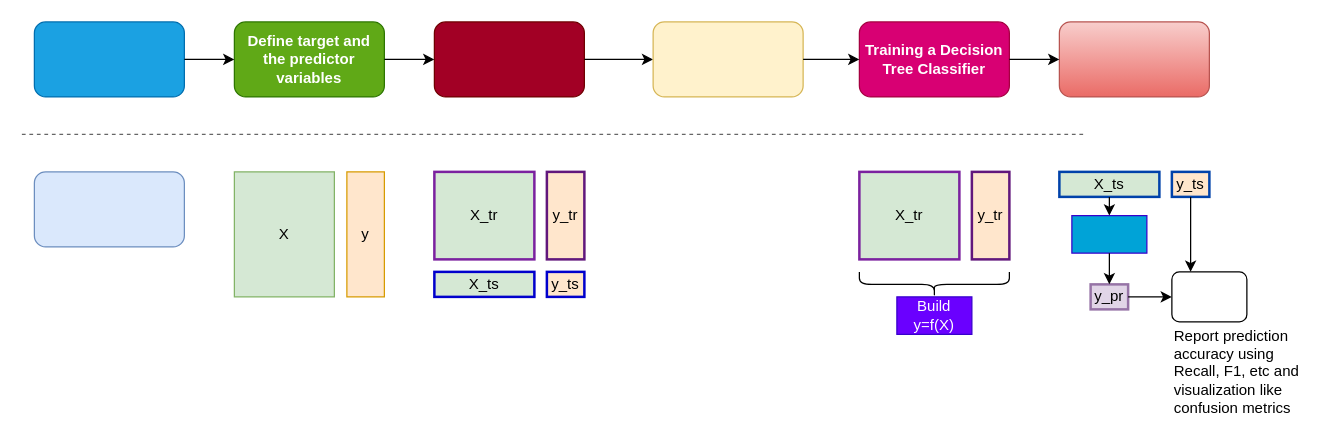
The diagram is 1331 pixels wide and 439 high, and some of its shapes have lost their labels. The centre of each missing label's shape, as x and y in pixels:
"Feature scaling" belongs at point 727,59.
"Form the test-train set (supervised set)" belongs at point 508,59.
"Load tabular data (.csv)" belongs at point 108,59.
"Metrics" belongs at point 1209,296.
"NFHS Dataset [m x n]" belongs at point 108,209.
"Use the trained classifier for prediction" belongs at point 1133,59.
"Use y=f(X)" belongs at point 1109,233.
